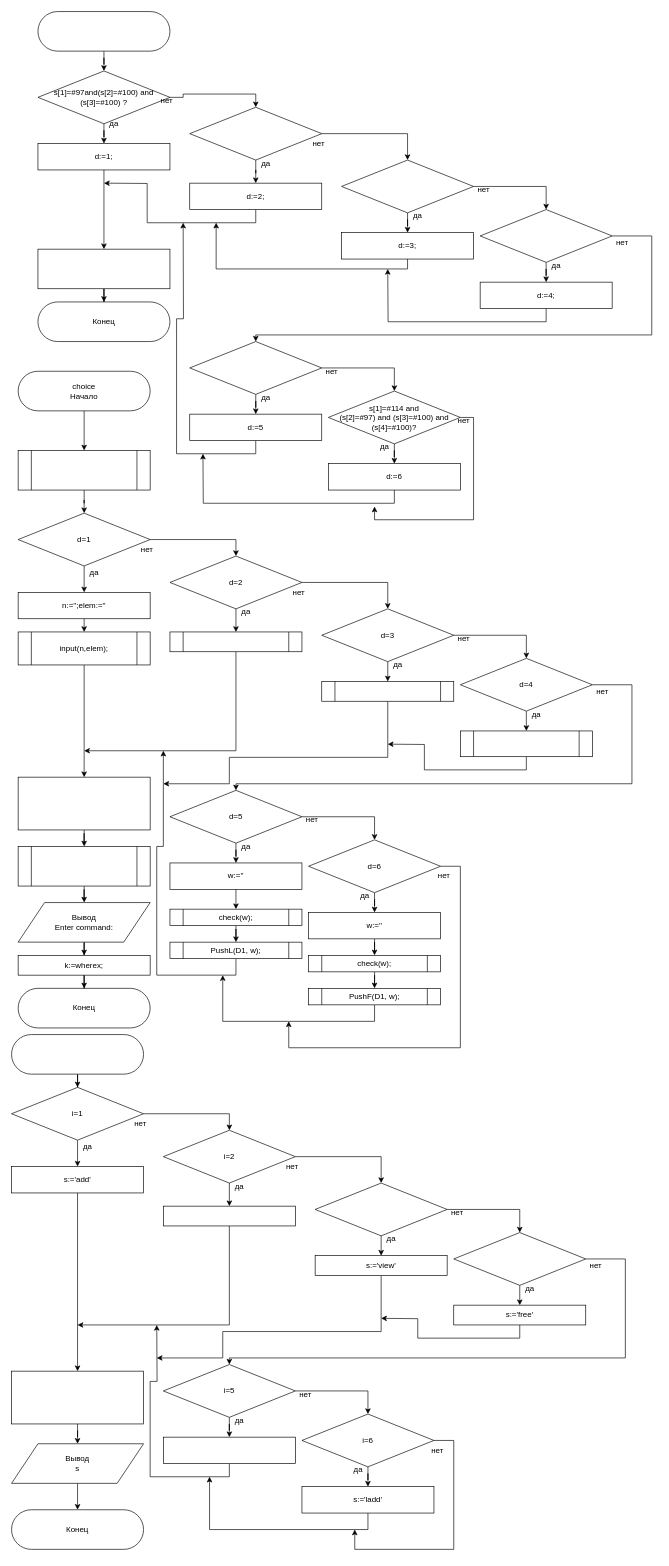
The diagram is 669 pixels wide and 1566 high, and some of its shapes have lost their labels. Here are the shapes that lost their labels. From the top down, the box of each, then its label:
(37, 11, 170, 51): proverka Начало
(189, 107, 322, 160): s[1]=#104 and (s[2]=#101) and (s[3]=#108) and (s[4]=#112)?
(341, 159, 474, 213): s[1]=#118 and((s[2]=#105) and (s[3]=#101) and (s[4]=#119) ?
(479, 209, 612, 262): s[1]=#102 and (s[2]=#114) and (s[3]=#101) and (s[4]=#101) ?
(37, 248, 170, 289): j:=0; i:=0; k:=wherex;
(189, 341, 322, 394): s[1]=#108 and((s[2]=#97) and (s[3]=#100) and (s[4]=#100)?
(17, 450, 150, 490): proverka;
(169, 631, 302, 652): infopanel;
(321, 681, 454, 701): DWriteln(D1);
(460, 730, 592, 757): Free(D1)
(17, 776, 150, 830): j:=0; CLRSCR; s:=#0; d:=0;
(17, 846, 150, 886): newcom;
(11, 1034, 144, 1074): autoinput; Начало
(163, 1205, 295, 1226): s:='help'
(314, 1182, 447, 1236): i=3
(453, 1232, 586, 1285): i=4
(11, 1370, 144, 1424): gotoxy(16,wherey);
(163, 1436, 295, 1464): s:='radd'
